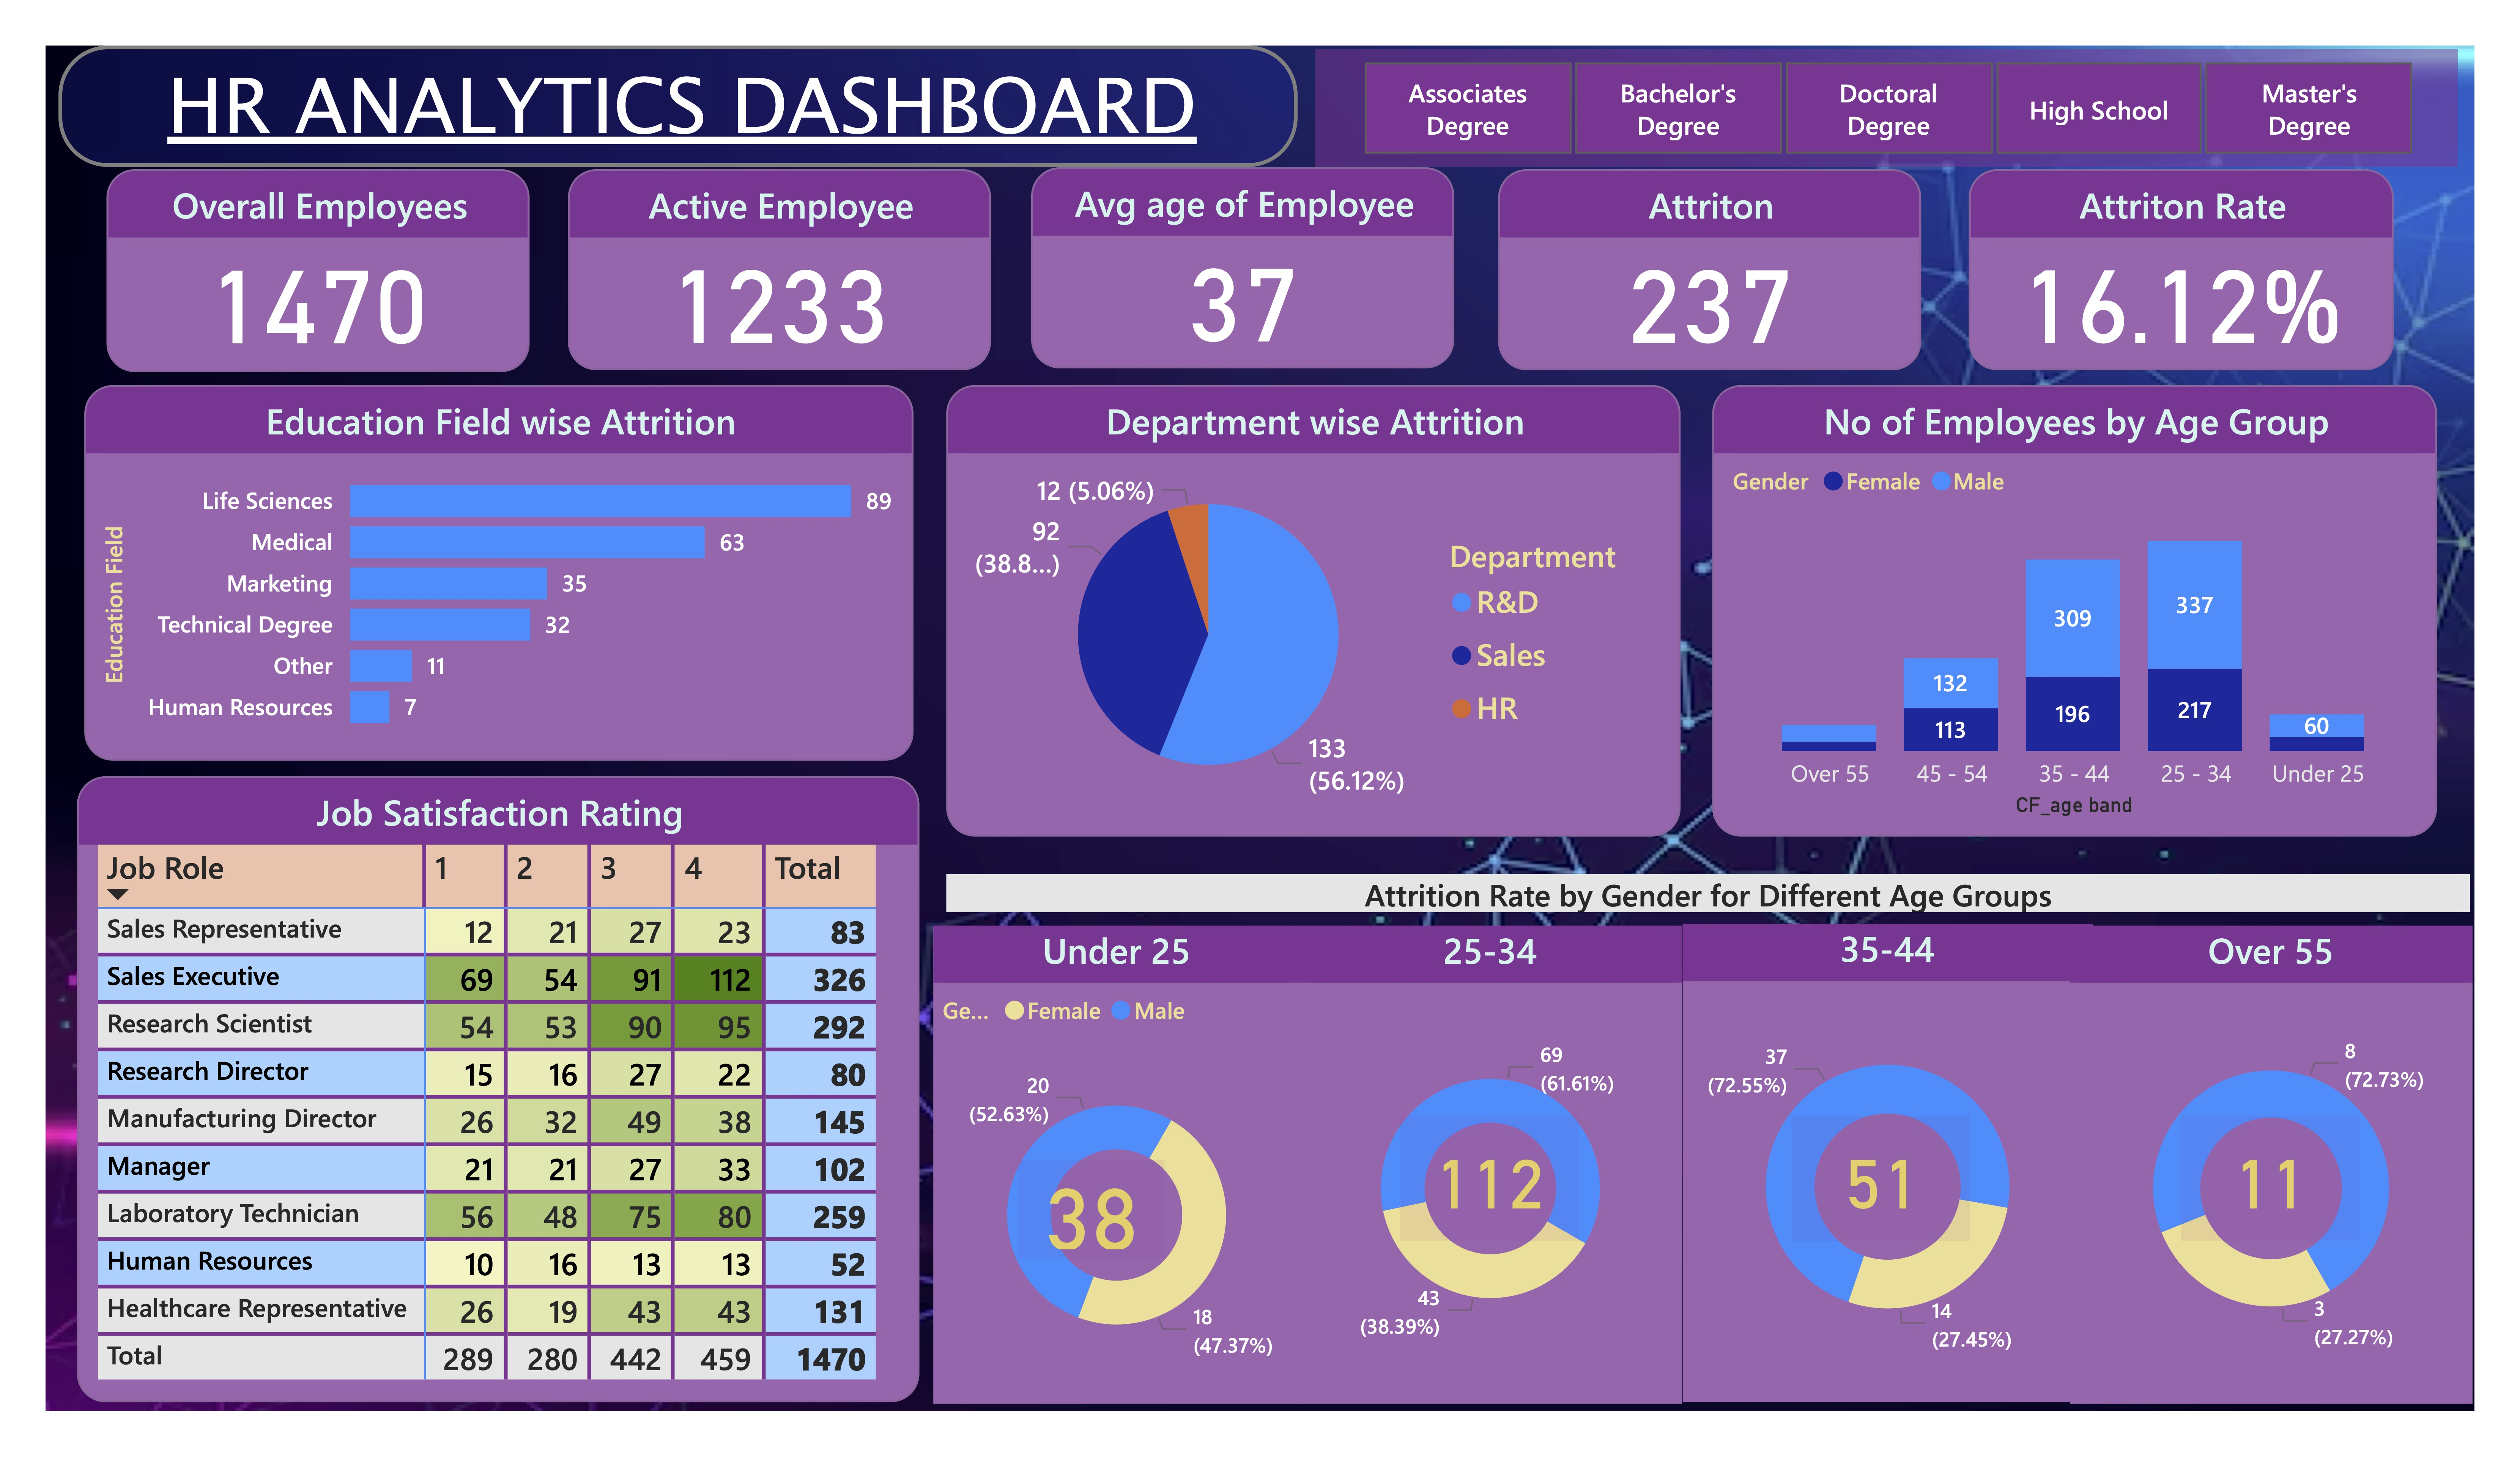

What the dashboard file says about the page in this screenshot:
{"tool":"powerbi","page":{"name":"Page 1","canvas":[1280,720],"ordinal":0},"visuals":[{"type":"card","title":"Overall Employees","fields":{"Values":["Sum(HR data.Employee Count)"]},"box":[31.7,64.8,223.2,106.6],"z":0},{"type":"card","title":"Attriton","fields":{"Values":["Sum(HR data.Attrition Count)"]},"box":[765.7,65,223,106.2],"z":1000},{"type":"card","title":"Attriton Rate","fields":{"Values":["HR data.Attrition Rate"]},"box":[1013.3,65,223.9,106.2],"z":2000},{"type":"card","title":"Active Employee","fields":{"Values":["HR data.Active Employee"]},"box":[275.7,65,223,106.2],"z":3000},{"type":"card","title":"Avg age of Employee","fields":{"Values":["Avg(HR data.Age)"]},"box":[518.9,64.1,223,106.2],"z":4000},{"type":"pieChart","title":"Department wise Attrition","fields":{"Y":["Sum(HR data.Attrition Count)"],"Category":["HR data.Department"]},"box":[475,179.1,387.2,238],"z":5000},{"type":"columnChart","title":"No of Employees by Age Group","fields":{"Category":["HR data.CF_age band"],"Y":["Sum(HR data.Employee Count)"],"Series":["HR data.Gender"]},"box":[878,179.1,382,238],"z":6000},{"type":"pivotTable","title":"Job Satisfaction Rating","fields":{"Rows":["HR data.Job Role"],"Values":["Sum(HR data.Employee Count)"],"Columns":["HR data.Job Satisfaction"]},"box":[16.7,385.5,444.3,330.1],"z":7000},{"type":"barChart","title":"Education Field wise Attrition","fields":{"Category":["HR data.Education Field"],"Y":["Sum(HR data.Attrition Count)"]},"box":[20.2,179.1,437.3,198.4],"z":8000},{"type":"donutChart","title":"Under 25","fields":{"Category":["HR data.Gender"],"Series":["HR data.CF_age band"],"Y":["Sum(HR data.Attrition Count)"]},"box":[468,463.6,193.2,252],"z":9000},{"type":"textbox","title":"Attrition Rate by Gender for Different Age Groups","box":[475,436.4,803.4,20.2],"z":10000},{"type":"donutChart","title":"35-44","fields":{"Category":["HR data.Gender"],"Series":["HR data.CF_age band"],"Y":["Sum(HR data.Attrition Count)"]},"box":[862.6,463.4,216,252],"z":11000},{"type":"donutChart","title":"25-34","fields":{"Category":["HR data.Gender"],"Series":["HR data.CF_age band"],"Y":["Sum(HR data.Attrition Count)"]},"box":[660.3,463.6,202,252],"z":12000},{"type":"donutChart","title":"Over 55","fields":{"Category":["HR data.Gender"],"Series":["HR data.CF_age band"],"Y":["Sum(HR data.Attrition Count)"]},"box":[1066.5,463.6,211.7,252],"z":13000},{"type":"card","fields":{"Values":["Sum(HR data.Attrition Count)"]},"box":[512.2,587.9,77.3,52.1],"z":14000},{"type":"card","fields":{"Values":["Sum(HR data.Attrition Count)"]},"box":[713.8,564.3,94.1,65.5],"z":15000},{"type":"card","fields":{"Values":["Sum(HR data.Attrition Count)"]},"box":[920.4,564.3,94.1,65.5],"z":16000},{"type":"card","fields":{"Values":["Sum(HR data.Attrition Count)"]},"box":[1125.3,564.3,94.1,65.5],"z":17000},{"type":"textbox","title":"HR ANALYTICS DASHBOARD","box":[7,0,653.3,64.1],"z":18000},{"type":"slicer","fields":{"Values":["HR data.Education"]},"box":[669.1,1.8,602.3,62.3],"z":19000}]}

Visuals, with their boxes in screenshot pixels (x1, y1, x2, y2), scaled from the page's 1280x720 canvas onto the 2520x1457 screenshot:
"Overall Employees" card: x1=62 y1=131 x2=502 y2=347
"Attriton" card: x1=1507 y1=132 x2=1947 y2=346
"Attriton Rate" card: x1=1995 y1=132 x2=2436 y2=346
"Active Employee" card: x1=543 y1=132 x2=982 y2=346
"Avg age of Employee" card: x1=1022 y1=130 x2=1461 y2=345
"Department wise Attrition" pieChart: x1=935 y1=362 x2=1698 y2=844
"No of Employees by Age Group" columnChart: x1=1729 y1=362 x2=2481 y2=844
"Job Satisfaction Rating" pivotTable: x1=33 y1=780 x2=907 y2=1448
"Education Field wise Attrition" barChart: x1=40 y1=362 x2=901 y2=764
"Under 25" donutChart: x1=921 y1=938 x2=1302 y2=1448
"Attrition Rate by Gender for Different Age Groups" textbox: x1=935 y1=883 x2=2517 y2=924
"35-44" donutChart: x1=1698 y1=938 x2=2123 y2=1448
"25-34" donutChart: x1=1300 y1=938 x2=1698 y2=1448
"Over 55" donutChart: x1=2099 y1=938 x2=2517 y2=1448
card - Sum(HR data.Attrition Count): x1=1008 y1=1190 x2=1161 y2=1295
card - Sum(HR data.Attrition Count): x1=1405 y1=1142 x2=1591 y2=1274
card - Sum(HR data.Attrition Count): x1=1812 y1=1142 x2=1997 y2=1274
card - Sum(HR data.Attrition Count): x1=2215 y1=1142 x2=2401 y2=1274
"HR ANALYTICS DASHBOARD" textbox: x1=14 y1=0 x2=1300 y2=130
slicer - HR data.Education: x1=1317 y1=4 x2=2503 y2=130
